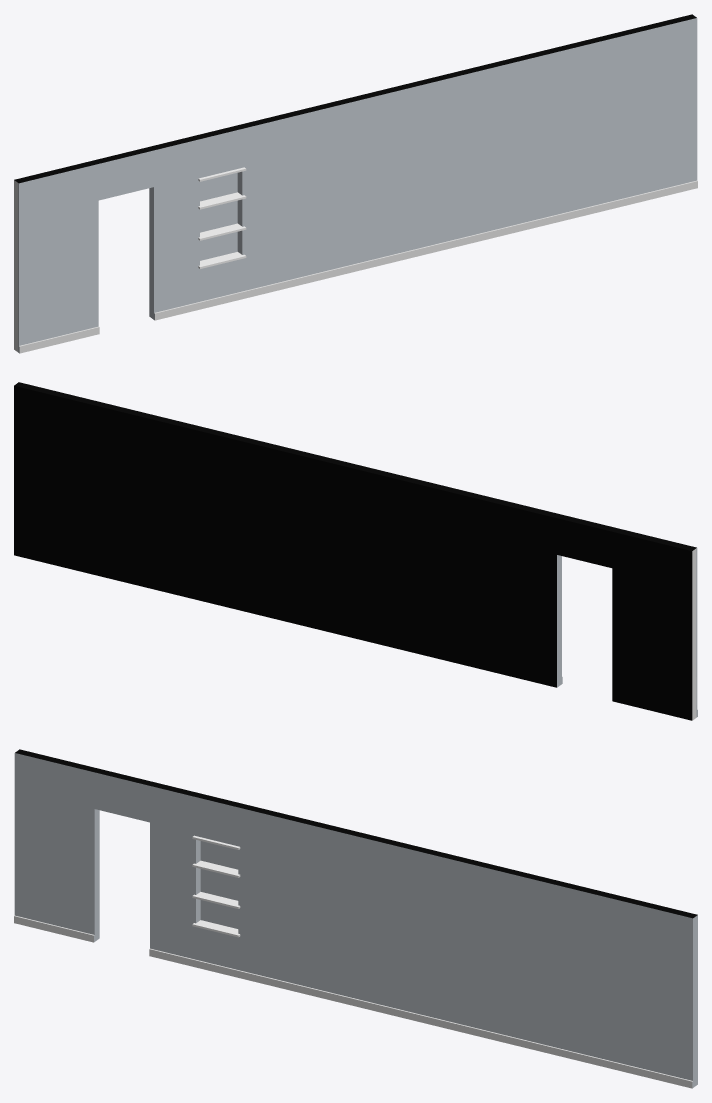
Rendered from Wall 3.FBX.
The picture shows the model from 3 angles, top to bottom: view 1: azimuth 30°, elevation 25°; view 2: azimuth 150°, elevation 25°; view 3: azimuth 330°, elevation 25°; orthographic projection.
Visible parts, largest first — view 1: Wall 3; view 2: Wall 3; view 3: Wall 3.
Part boxes in pixels (x1=…): Wall 3: x1=14, y1=14, x2=697, y2=353; Wall 3: x1=14, y1=382, x2=697, y2=720; Wall 3: x1=14, y1=749, x2=697, y2=1088.
Bounding box in the file's own units: 1127 × 269 × 19.16.
Materials: 3 (1 with a texture image).
